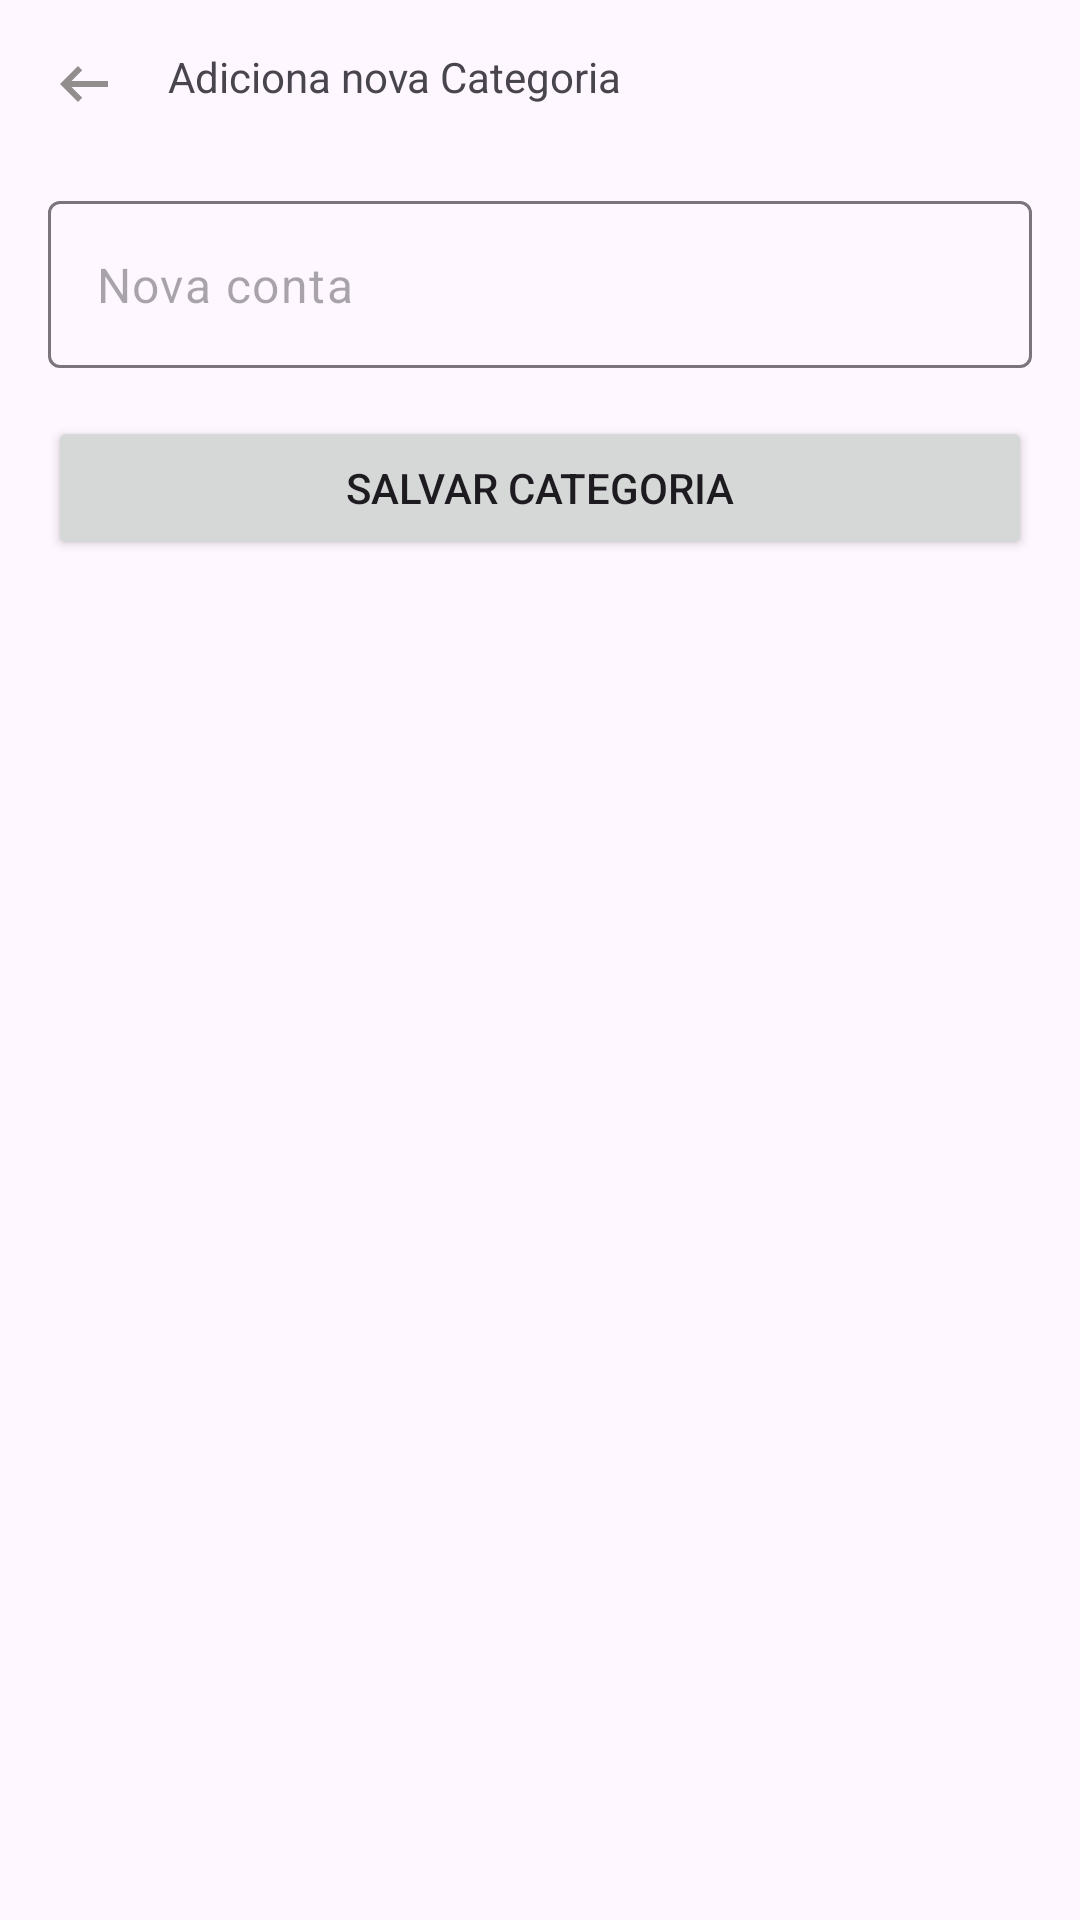

Icon click points for this 1080px×1920px phone screenshot, format point (x, y):
voltar: point (84, 84)
